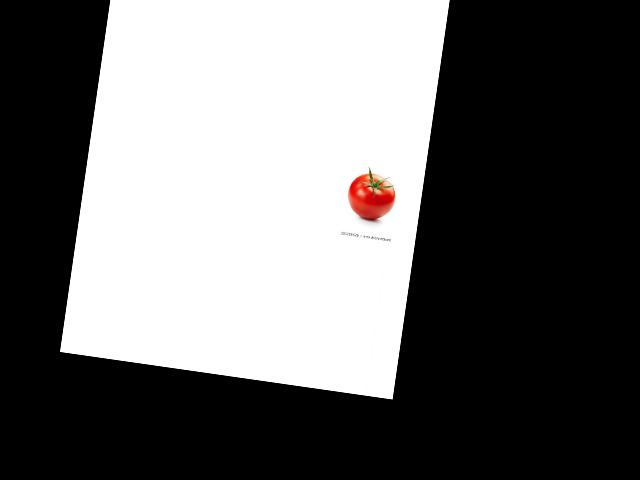tomato: (345, 170, 397, 222)
